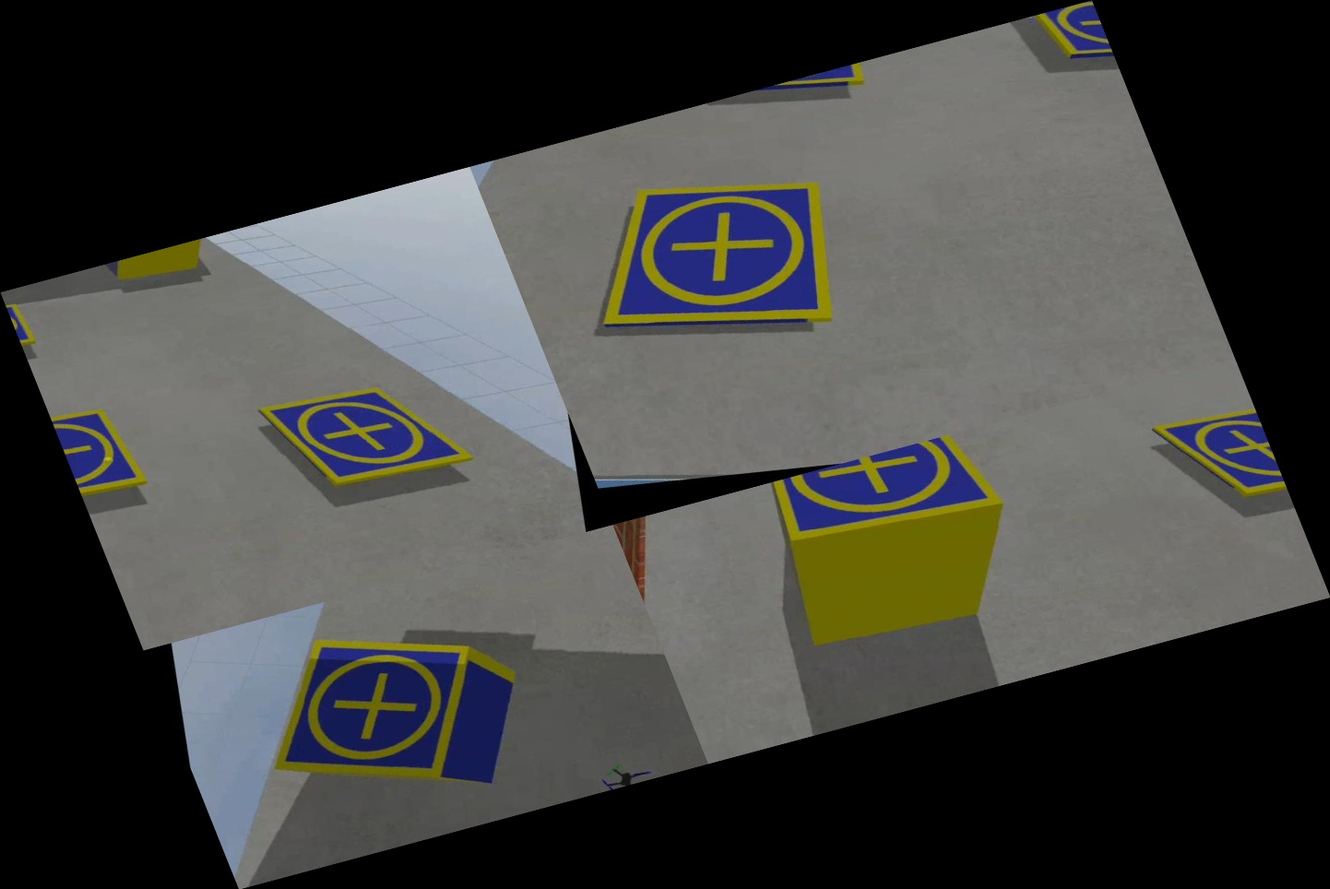small_base: (545, 132, 883, 389), (218, 589, 528, 831), (239, 347, 495, 521), (753, 422, 1032, 578), (1131, 390, 1292, 535), (45, 382, 173, 517), (1015, 0, 1123, 101), (720, 58, 885, 124), (1, 285, 49, 350)
